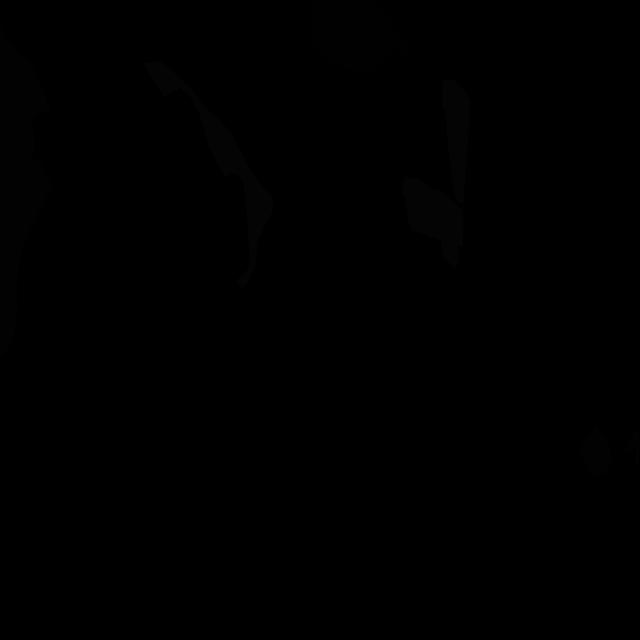cardboard: (0, 25, 54, 358), (579, 426, 612, 476), (623, 424, 639, 470)
rigid_plastic: (310, 0, 412, 77)
soft_plastic: (143, 61, 273, 288), (402, 176, 464, 269), (442, 80, 471, 204)
